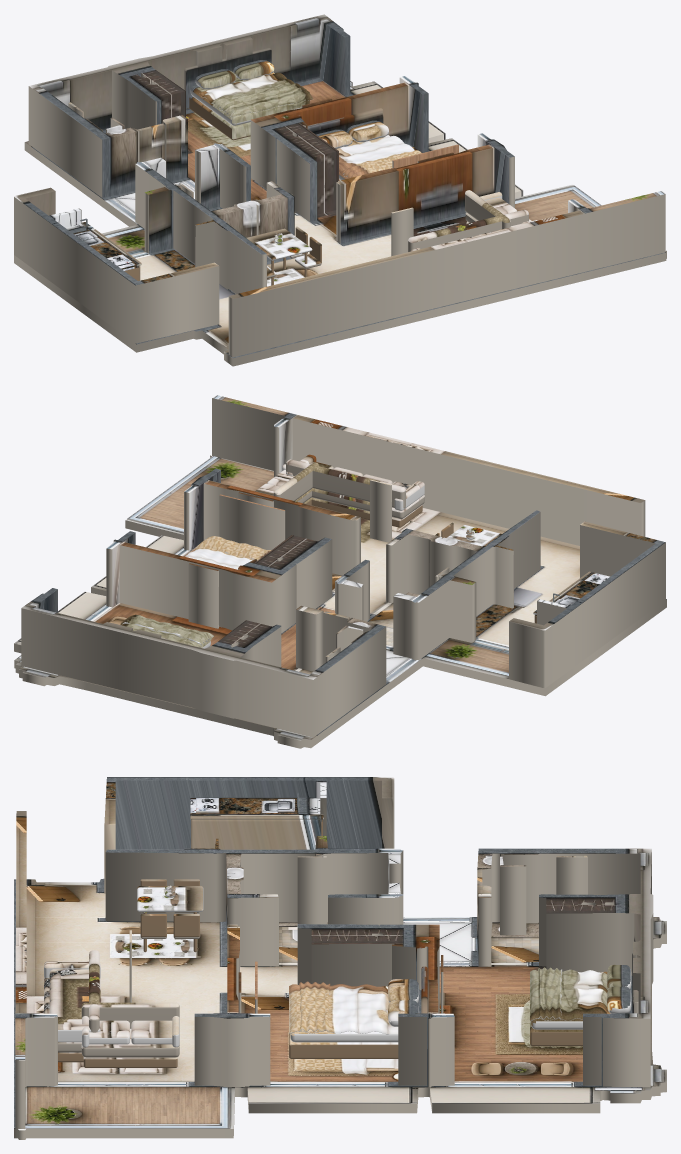
The model's file is p13-05-u04-2110-image-model.glb.
3 views of the same model, one above another, from view 1: azimuth 30°, elevation 25°; view 2: azimuth 150°, elevation 25°; view 3: azimuth 270°, elevation 25° (orthographic). The views are drawn at different scales.
Parts seen in each view (by area): view 1: Partition walls, Apartment floor, Draped bed linen.002, Sofa back, Draped bed linen, Marble dining top, Upholstered headboard.001, Piped mattress.001, Walnut upholstered base.001, Draped bed linen.003, Upholstered headboard, Sofa back.001 (+5 smaller); view 2: Partition walls, Apartment floor, Sofa back, Draped bed linen.003, Upholstered sofa frame, Draped bed linen, Draped bed linen.001, Sofa back.001, Sofa plinth, Marble dining top, Stone worktop; view 3: Partition walls, Apartment floor, Kitchen cabinets, Draped bed linen, Draped bed linen.002, Walnut upholstered base, Stone worktop, Sofa back.001, Marble dining top, Draped bed linen.001, Upholstered sofa frame.001, Piped mattress (+17 smaller).
Boxes of the visible parts, bbox=[...] form: Partition walls: bbox=[14, 14, 665, 357]; Apartment floor: bbox=[14, 78, 666, 366]; Draped bed linen.002: bbox=[199, 72, 313, 117]; Sofa back: bbox=[408, 209, 528, 251]; Draped bed linen: bbox=[336, 135, 414, 177]; Marble dining top: bbox=[246, 228, 312, 260]; Upholstered headboard.001: bbox=[184, 48, 271, 108]; Piped mattress.001: bbox=[190, 72, 309, 125]; Walnut upholstered base.001: bbox=[189, 95, 250, 140]; Draped bed linen.003: bbox=[218, 83, 309, 114]; Upholstered headboard: bbox=[307, 108, 383, 134]; Sofa back.001: bbox=[465, 190, 510, 229]; Partition walls: bbox=[21, 395, 665, 737]; Apartment floor: bbox=[14, 454, 666, 748]; Sofa back: bbox=[286, 459, 405, 508]; Draped bed linen.003: bbox=[120, 614, 210, 645]; Upholstered sofa frame: bbox=[311, 488, 424, 519]; Draped bed linen: bbox=[185, 536, 271, 569]; Draped bed linen.001: bbox=[196, 536, 270, 560]; Sofa back.001: bbox=[273, 462, 318, 500]; Sofa plinth: bbox=[311, 497, 422, 527]; Marble dining top: bbox=[446, 525, 501, 546]; Stone worktop: bbox=[533, 571, 609, 614]; Partition walls: bbox=[15, 777, 653, 1128]; Apartment floor: bbox=[14, 878, 666, 1139]; Kitchen cabinets: bbox=[191, 819, 322, 849]; Draped bed linen: bbox=[289, 983, 389, 1034]; Draped bed linen.002: bbox=[530, 969, 607, 1020]; Walnut upholstered base: bbox=[289, 1034, 398, 1058]; Stone worktop: bbox=[190, 797, 323, 819]; Sofa back.001: bbox=[81, 1002, 179, 1028]; Marble dining top: bbox=[137, 886, 203, 911]; Draped bed linen.001: bbox=[299, 981, 330, 1032]; Upholstered sofa frame.001: bbox=[81, 1028, 179, 1057]; Piped mattress: bbox=[290, 989, 421, 1042].
Bounding box in the file's own units: 10.12 × 1.3 × 9.82.
13 materials, 3 textured.
